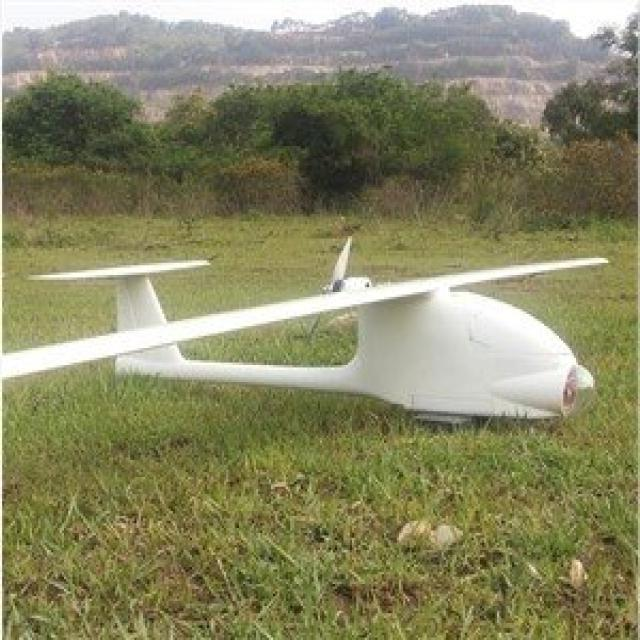iha: (0, 243, 621, 423)
